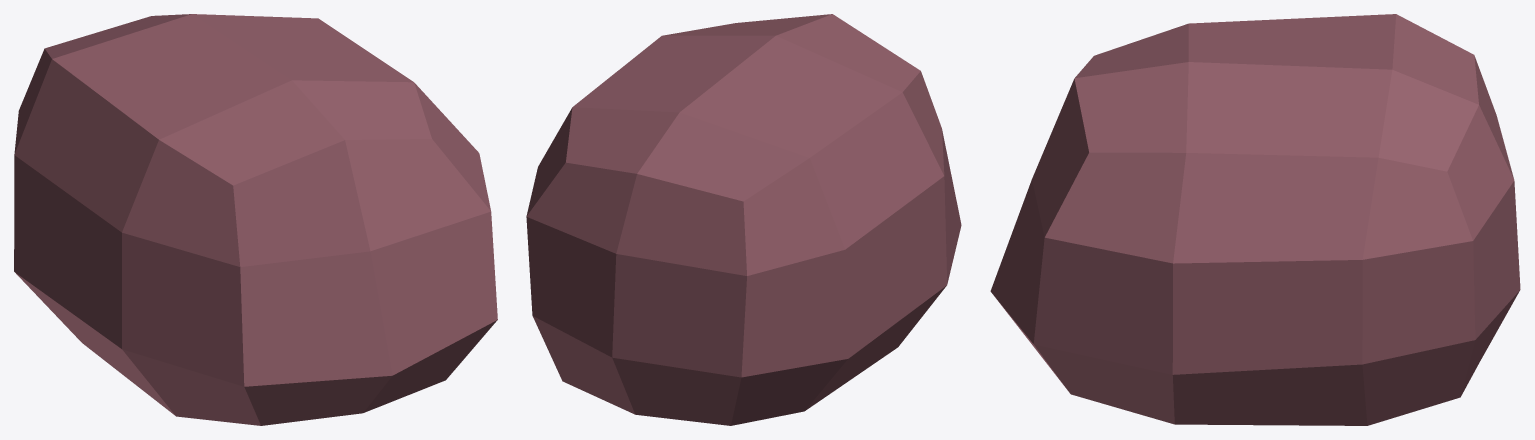
File: Rock_09_Lod1.fbx
3 renders of one model, left to right at view 1: azimuth 30°, elevation 25°; view 2: azimuth 150°, elevation 25°; view 3: azimuth 270°, elevation 25°, orthographic. The views are drawn at different scales.
Visible parts, largest first — view 1: Rock_09_Lod1; view 2: Rock_09_Lod1; view 3: Rock_09_Lod1.
Part boxes in pixels (<box>): Rock_09_Lod1: <box>14,14,497,425</box>; Rock_09_Lod1: <box>526,14,961,425</box>; Rock_09_Lod1: <box>990,14,1520,425</box>.
Bounding box in the file's own units: 40.79 × 34.8 × 51.4.
